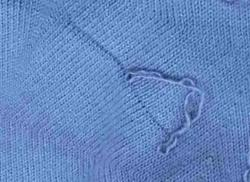snag: (118, 60, 154, 96)
